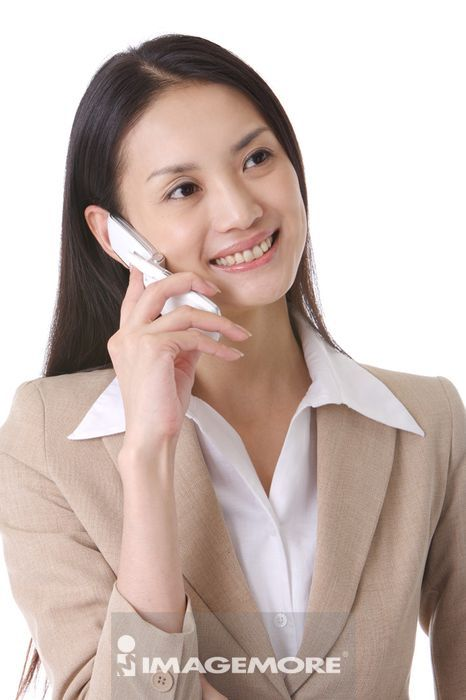phone: (107, 213, 223, 348)
talk: (105, 115, 302, 481)
